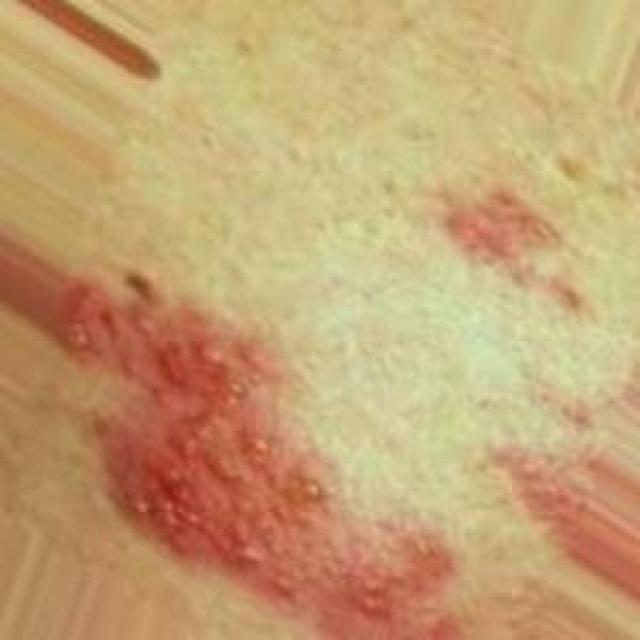Shingles: (67, 273, 458, 640), (449, 180, 565, 286)
